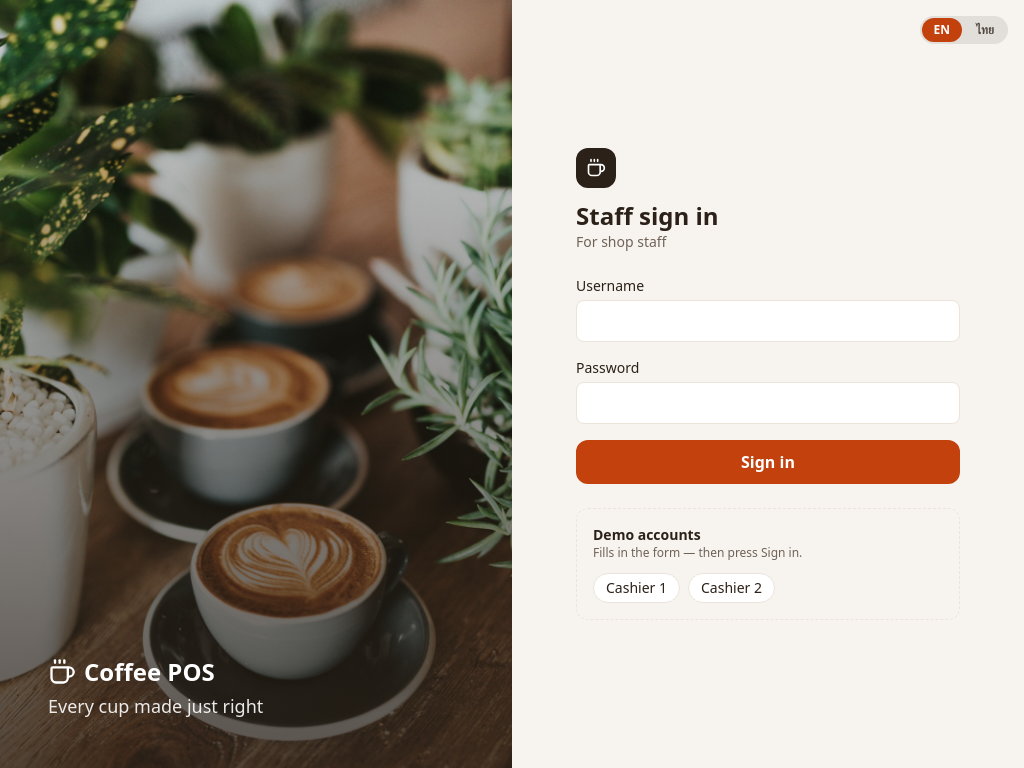
Test: LoginPage › demo accounts › fills the form for a demo account without signing in
Click the button "Cashier 2" at (732, 588), box [688,573,775,603]
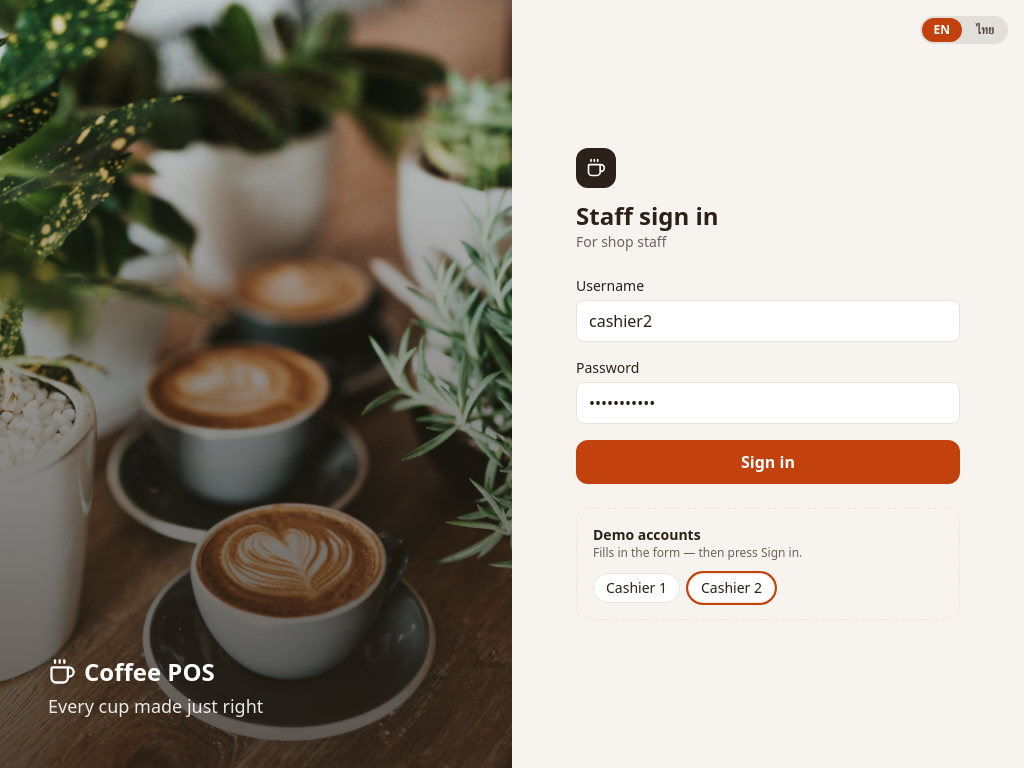
Now the field labelled "Username" holds "cashier2", box [576,300,960,342]
Now the password field labelled "Password" holds "password123", box [576,382,960,424]
